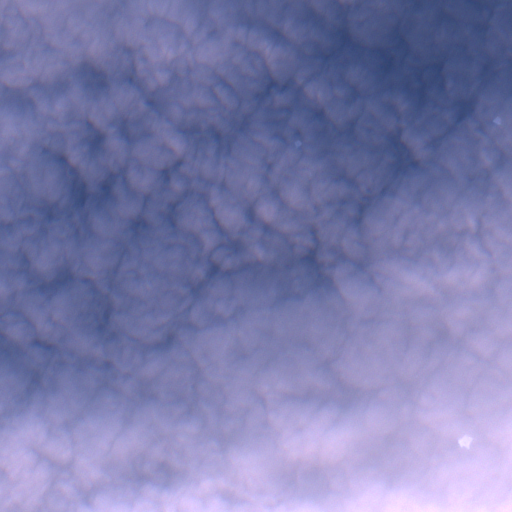Iceberg: (458, 435, 472, 449), (493, 117, 500, 123), (295, 141, 301, 147)
